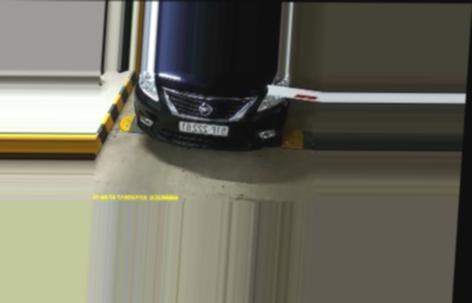License_Plate: (178, 120, 229, 137)
